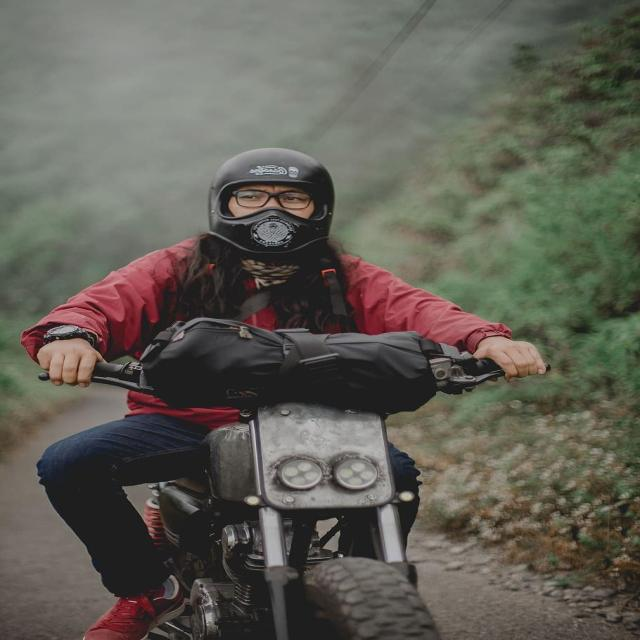helmet: (197, 148, 338, 249)
